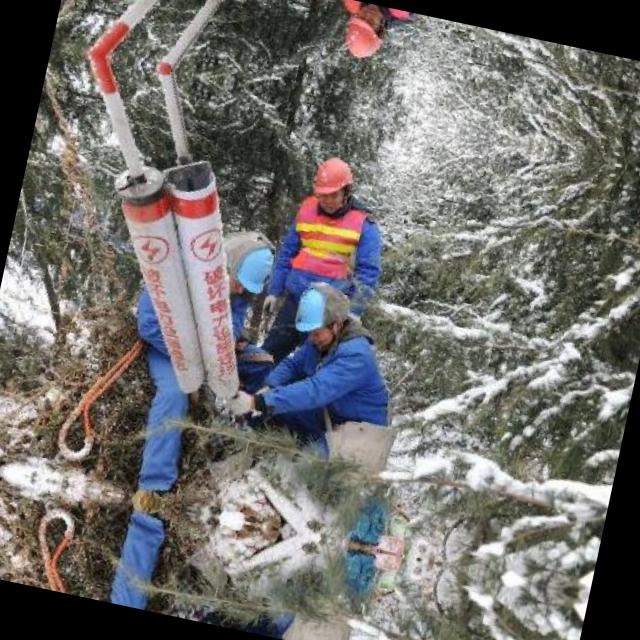helmet: (194, 220, 279, 300), (288, 277, 352, 351), (306, 149, 361, 213), (338, 2, 392, 66)
